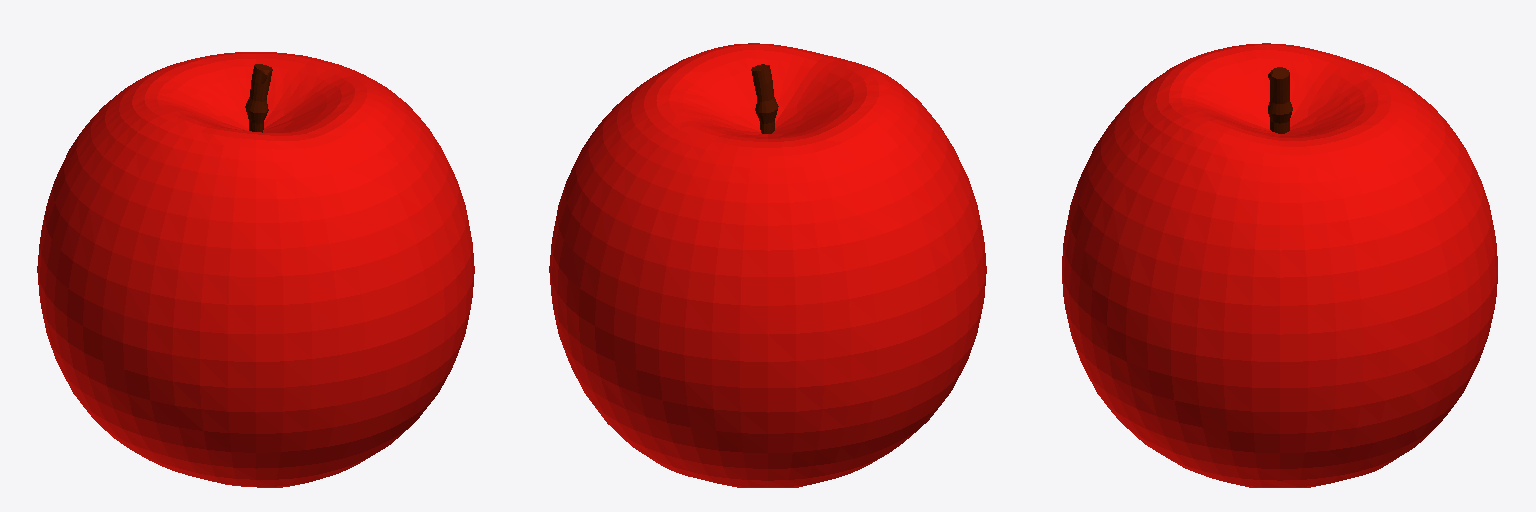
The model's file is manzana.obj.
3 renders of one model, left to right at view 1: azimuth 30°, elevation 25°; view 2: azimuth 150°, elevation 25°; view 3: azimuth 270°, elevation 25°, orthographic.
Parts seen in each view (by area): view 1: Apple_1_:Sphere001, Apple_1_:Cylinder001; view 2: Apple_1_:Sphere001, Apple_1_:Cylinder001; view 3: Apple_1_:Sphere001, Apple_1_:Cylinder001.
Part boxes in pixels (left/top/right/bottom): Apple_1_:Sphere001: left=37, top=52, right=474, bottom=487; Apple_1_:Cylinder001: left=245, top=64, right=272, bottom=132; Apple_1_:Sphere001: left=549, top=43, right=986, bottom=487; Apple_1_:Cylinder001: left=751, top=64, right=778, bottom=133; Apple_1_:Sphere001: left=1062, top=43, right=1497, bottom=487; Apple_1_:Cylinder001: left=1268, top=67, right=1292, bottom=133.
Size of the model in its own units: 2.33 by 2.22 by 2.33.